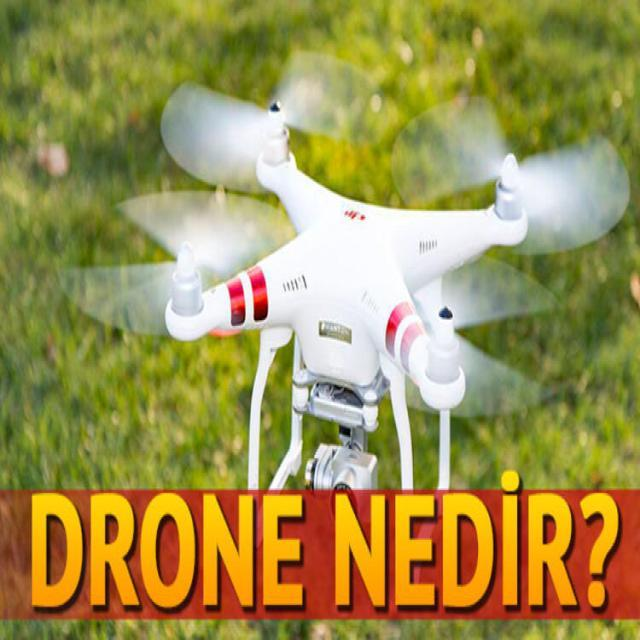drones: (65, 25, 640, 577)
